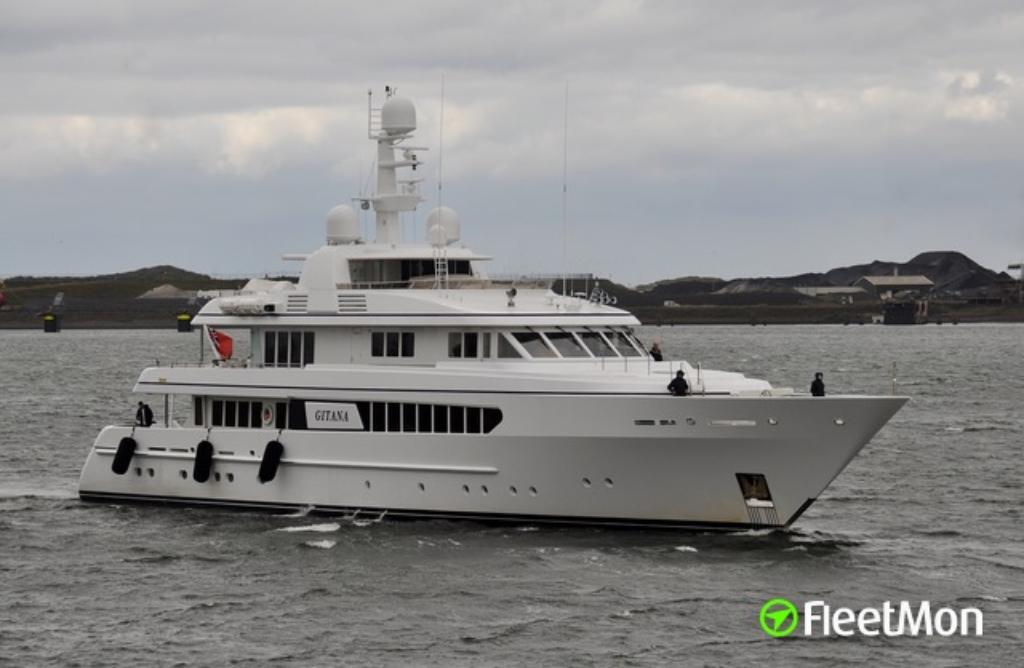PassengerShip: (78, 83, 910, 531)
